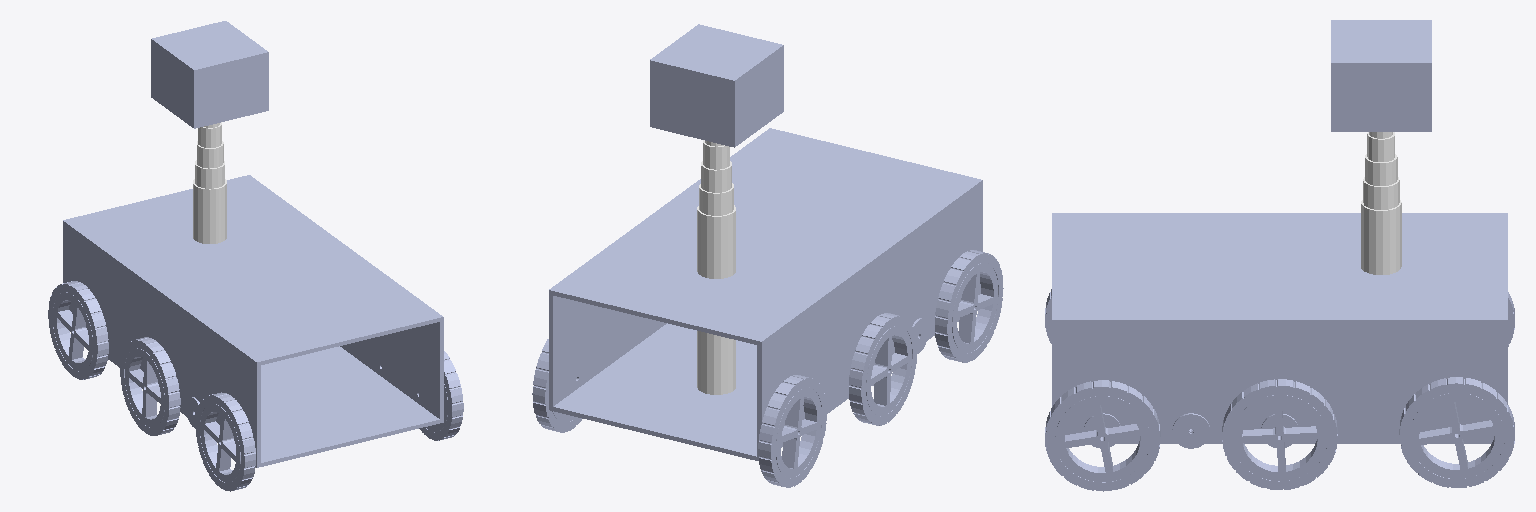
robot.urdf — argos:
<?xml version="1.0" encoding="utf-8"?>
<!-- This URDF was automatically created by SolidWorks to URDF Exporter! Originally created by [author] ([email redacted]) 
     Commit Version: 1.6.0-1-g15f4949  Build Version: 1.6.7594.29634
     For more information, please see http://wiki.ros.org/sw_urdf_exporter -->
<robot
  name="argos">
  <link
    name="base_link">
    <inertial>
      <origin
        xyz="-0.0377652748892957 -0.0209250714999895 0.103550542922571"
        rpy="0 0 0" />
      <mass
        value="13.4937168146928" />
      <inertia
        ixx="1.08636318950784"
        ixy="4.36025299634569E-16"
        ixz="2.00402111243798E-16"
        iyy="0.632818984557334"
        iyz="2.82387821223199E-05"
        izz="1.36808980383463" />
    </inertial>
    <visual>
      <origin
        xyz="0 0 0"
        rpy="0 0 0" />
      <geometry>
        <mesh
          filename="package://argos_description/meshes/base_link.STL" />
      </geometry>
      <material
        name="">
        <color
          rgba="0.792156862745098 0.819607843137255 0.933333333333333 1" />
      </material>
    </visual>
    <collision>
      <origin
        xyz="0 0 0"
        rpy="0 0 0" />
      <geometry>
        <mesh
          filename="package://argos_description/meshes/base_link.STL" />
      </geometry>
    </collision>
  </link>
  <link
    name="right_rear_motor_link">
    <inertial>
      <origin
        xyz="0 -0.0025 0"
        rpy="0 0 0" />
      <mass
        value="0.0216966242638545" />
      <inertia
        ixx="7.80852466996015E-06"
        ixy="-1.91596964344589E-22"
        ixz="-4.2351647362715E-22"
        iyy="1.55266467388209E-05"
        iyz="-4.62295371395108E-22"
        izz="7.80852466996015E-06" />
    </inertial>
    <visual>
      <origin
        xyz="0 0 0"
        rpy="0 0 0" />
      <geometry>
        <mesh
          filename="package://argos_description/meshes/right_rear_motor_link.STL" />
      </geometry>
      <material
        name="">
        <color
          rgba="0.792156862745098 0.819607843137255 0.933333333333333 1" />
      </material>
    </visual>
    <collision>
      <origin
        xyz="0 0 0"
        rpy="0 0 0" />
      <geometry>
        <mesh
          filename="package://argos_description/meshes/right_rear_motor_link.STL" />
      </geometry>
    </collision>
  </link>
  <joint
    name="right_rear_motor_joint"
    type="continuous">
    <origin
      xyz="0.21723 -0.19595 0.00082273"
      rpy="0 -0.3918 1.5708" />
    <parent
      link="base_link" />
    <child
      link="right_rear_motor_link" />
    <axis
      xyz="0 1 0" />
  </joint>
  <link
    name="right_mid_gear_link">
    <inertial>
      <origin
        xyz="-1.98408997564847E-17 0.002 -2.32452945780892E-16"
        rpy="0 0 0" />
      <mass
        value="0.0216966242638545" />
      <inertia
        ixx="7.80852466996015E-06"
        ixy="5.02080282874028E-22"
        ixz="0"
        iyy="1.55266467388209E-05"
        iyz="1.16710758237386E-35"
        izz="7.80852466996015E-06" />
    </inertial>
    <visual>
      <origin
        xyz="0 0 0"
        rpy="0 0 0" />
      <geometry>
        <mesh
          filename="package://argos_description/meshes/right_mid_gear_link.STL" />
      </geometry>
      <material
        name="">
        <color
          rgba="0.792156862745098 0.819607843137255 0.933333333333333 1" />
      </material>
    </visual>
    <collision>
      <origin
        xyz="0 0 0"
        rpy="0 0 0" />
      <geometry>
        <mesh
          filename="package://argos_description/meshes/right_mid_gear_link.STL" />
      </geometry>
    </collision>
  </link>
  <joint
    name="right_mid_gear_joint"
    type="continuous">
    <origin
      xyz="0.161739303728853 -0.0045 -0.0668236307701537"
      rpy="-3.14159265358979 1.17899991460537 -3.14159265358979" />
    <parent
      link="right_rear_motor_link" />
    <child
      link="right_mid_gear_link" />
    <axis
      xyz="0 1 0" />
  </joint>
  <link
    name="right_mid_wheel_link">
    <inertial>
      <origin
        xyz="2.25514051876985E-16 0.0155000000000001 4.03323208164608E-17"
        rpy="0 0 0" />
      <mass
        value="0.820122101622573" />
      <inertia
        ixx="0.00342027097529297"
        ixy="-6.35171020925471E-21"
        ixz="5.42101086242752E-19"
        iyy="0.00671792488217426"
        iyz="-1.81154860439012E-19"
        izz="0.00342027097529297" />
    </inertial>
    <visual>
      <origin
        xyz="0 0 0"
        rpy="0 0 0" />
      <geometry>
        <mesh
          filename="package://argos_description/meshes/right_mid_wheel_link.STL" />
      </geometry>
      <material
        name="">
        <color
          rgba="0.792156862745098 0.819607843137255 0.933333333333333 1" />
      </material>
    </visual>
    <collision>
      <origin
        xyz="0 0 0"
        rpy="0 0 0" />
      <geometry>
        <mesh
          filename="package://argos_description/meshes/right_mid_wheel_link.STL" />
      </geometry>
    </collision>
  </link>
  <joint
    name="right_mid_wheel_joint"
    type="fixed">
    <origin
      xyz="0 0 0"
      rpy="-3.14159265358979 1.51273617278771 0" />
    <parent
      link="right_mid_gear_link" />
    <child
      link="right_mid_wheel_link" />
    <axis
      xyz="0 0 0" />
  </joint>
  <link
    name="right_rear_gear_link">
    <inertial>
      <origin
        xyz="-6.98226199080665E-17 0.00749999999999987 -1.11022302462516E-16"
        rpy="0 0 0" />
      <mass
        value="0.0216966242638545" />
      <inertia
        ixx="7.80852466996015E-06"
        ixy="-5.02080282874028E-22"
        ixz="-3.74939945665465E-41"
        iyy="1.55266467388209E-05"
        iyz="-2.43906422185256E-57"
        izz="7.80852466996015E-06" />
    </inertial>
    <visual>
      <origin
        xyz="0 0 0"
        rpy="0 0 0" />
      <geometry>
        <mesh
          filename="package://argos_description/meshes/right_rear_gear_link.STL" />
      </geometry>
      <material
        name="">
        <color
          rgba="0.792156862745098 0.819607843137255 0.933333333333333 1" />
      </material>
    </visual>
    <collision>
      <origin
        xyz="0 0 0"
        rpy="0 0 0" />
      <geometry>
        <mesh
          filename="package://argos_description/meshes/right_rear_gear_link.STL" />
      </geometry>
    </collision>
  </link>
  <joint
    name="right_rear_gear_joint"
    type="continuous">
    <origin
      xyz="-0.161739303728853 -0.00500000000000006 0.0668236307701536"
      rpy="-3.14159265358979 1.17899991460539 -3.14159265358979" />
    <parent
      link="right_rear_motor_link" />
    <child
      link="right_rear_gear_link" />
    <axis
      xyz="0 1 0" />
  </joint>
  <link
    name="right_rear_wheel_link">
    <inertial>
      <origin
        xyz="-8.32667268468867E-17 0.015 5.55111512312578E-17"
        rpy="0 0 0" />
      <mass
        value="0.820122101622576" />
      <inertia
        ixx="0.00342027097529298"
        ixy="2.01461140192011E-19"
        ixz="1.13841228110978E-18"
        iyy="0.00671792488217428"
        iyz="4.21871567652041E-20"
        izz="0.00342027097529298" />
    </inertial>
    <visual>
      <origin
        xyz="0 0 0"
        rpy="0 0 0" />
      <geometry>
        <mesh
          filename="package://argos_description/meshes/right_rear_wheel_link.STL" />
      </geometry>
      <material
        name="">
        <color
          rgba="0.792156862745098 0.819607843137255 0.933333333333333 1" />
      </material>
    </visual>
    <collision>
      <origin
        xyz="0 0 0"
        rpy="0 0 0" />
      <geometry>
        <mesh
          filename="package://argos_description/meshes/right_rear_wheel_link.STL" />
      </geometry>
    </collision>
  </link>
  <joint
    name="right_rear_wheel_joint"
    type="continuous">
    <origin
      xyz="0 0 0"
      rpy="3.14159265358979 -0.17799306621387 0" />
    <parent
      link="right_rear_gear_link" />
    <child
      link="right_rear_wheel_link" />
    <axis
      xyz="0 1 0" />
  </joint>
  <link
    name="right_front_wheel_link">
    <inertial>
      <origin
        xyz="0 0.015 -6.93889390390723E-18"
        rpy="0 0 0" />
      <mass
        value="0.820122101622575" />
      <inertia
        ixx="0.00342027097529298"
        ixy="6.74204766962017E-20"
        ixz="-3.25260651745651E-19"
        iyy="0.00671792488217427"
        iyz="-2.84377181797463E-19"
        izz="0.00342027097529298" />
    </inertial>
    <visual>
      <origin
        xyz="0 0 0"
        rpy="0 0 0" />
      <geometry>
        <mesh
          filename="package://argos_description/meshes/right_front_wheel_link.STL" />
      </geometry>
      <material
        name="">
        <color
          rgba="0.792156862745098 0.819607843137255 0.933333333333333 1" />
      </material>
    </visual>
    <collision>
      <origin
        xyz="0 0 0"
        rpy="0 0 0" />
      <geometry>
        <mesh
          filename="package://argos_description/meshes/right_front_wheel_link.STL" />
      </geometry>
    </collision>
  </link>
  <joint
    name="right_front_wheel_joint"
    type="continuous">
    <origin
      xyz="0.21223 0.32905 0.00082273"
      rpy="0 0.1857 -1.5708" />
    <parent
      link="base_link" />
    <child
      link="right_front_wheel_link" />
    <axis
      xyz="0 1 0" />
  </joint>
  <link
    name="left_front_wheel_link">
    <inertial>
      <origin
        xyz="-5.55111512312578E-17 0.015 2.08166817117217E-17"
        rpy="0 0 0" />
      <mass
        value="0.820122101622576" />
      <inertia
        ixx="0.00342027097529298"
        ixy="2.48187406627788E-20"
        ixz="7.04731412115578E-19"
        iyy="0.00671792488217428"
        iyz="2.81064112758757E-19"
        izz="0.00342027097529298" />
    </inertial>
    <visual>
      <origin
        xyz="0 0 0"
        rpy="0 0 0" />
      <geometry>
        <mesh
          filename="package://argos_description/meshes/left_front_wheel_link.STL" />
      </geometry>
      <material
        name="">
        <color
          rgba="0.792156862745098 0.819607843137255 0.933333333333333 1" />
      </material>
    </visual>
    <collision>
      <origin
        xyz="0 0 0"
        rpy="0 0 0" />
      <geometry>
        <mesh
          filename="package://argos_description/meshes/left_front_wheel_link.STL" />
      </geometry>
    </collision>
  </link>
  <joint
    name="left_front_wheel_joint"
    type="continuous">
    <origin
      xyz="-0.28777 0.32905 0.00082273"
      rpy="3.1416 0.1857 -1.5708" />
    <parent
      link="base_link" />
    <child
      link="left_front_wheel_link" />
    <axis
      xyz="0 1 0" />
  </joint>
  <link
    name="left_rear_motor_link">
    <inertial>
      <origin
        xyz="-1.38777878078145E-16 -0.0025 -4.16333634234434E-17"
        rpy="0 0 0" />
      <mass
        value="0.0216966242638545" />
      <inertia
        ixx="7.80852466996016E-06"
        ixy="-1.59887894548014E-22"
        ixz="-2.11758236813575E-22"
        iyy="1.55266467388209E-05"
        iyz="3.88435361031883E-22"
        izz="7.80852466996015E-06" />
    </inertial>
    <visual>
      <origin
        xyz="0 0 0"
        rpy="0 0 0" />
      <geometry>
        <mesh
          filename="package://argos_description/meshes/left_rear_motor_link.STL" />
      </geometry>
      <material
        name="">
        <color
          rgba="0.792156862745098 0.819607843137255 0.933333333333333 1" />
      </material>
    </visual>
    <collision>
      <origin
        xyz="0 0 0"
        rpy="0 0 0" />
      <geometry>
        <mesh
          filename="package://argos_description/meshes/left_rear_motor_link.STL" />
      </geometry>
    </collision>
  </link>
  <joint
    name="left_rear_motor_joint"
    type="continuous">
    <origin
      xyz="-0.29277 -0.19595 0.00082273"
      rpy="3.1416 -0.3918 1.5708" />
    <parent
      link="base_link" />
    <child
      link="left_rear_motor_link" />
    <axis
      xyz="0 1 0" />
  </joint>
  <link
    name="left_rear_gear_link">
    <inertial>
      <origin
        xyz="2.16840434497101E-19 0.00249999999999995 5.55111512312578E-17"
        rpy="0 0 0" />
      <mass
        value="0.0216966242638545" />
      <inertia
        ixx="7.80852466996015E-06"
        ixy="5.02080282874028E-22"
        ixz="-3.74939945665465E-41"
        iyy="1.55266467388209E-05"
        iyz="2.43906422185256E-57"
        izz="7.80852466996015E-06" />
    </inertial>
    <visual>
      <origin
        xyz="0 0 0"
        rpy="0 0 0" />
      <geometry>
        <mesh
          filename="package://argos_description/meshes/left_rear_gear_link.STL" />
      </geometry>
      <material
        name="">
        <color
          rgba="0.792156862745098 0.819607843137255 0.933333333333333 1" />
      </material>
    </visual>
    <collision>
      <origin
        xyz="0 0 0"
        rpy="0 0 0" />
      <geometry>
        <mesh
          filename="package://argos_description/meshes/left_rear_gear_link.STL" />
      </geometry>
    </collision>
  </link>
  <joint
    name="left_rear_gear_joint"
    type="continuous">
    <origin
      xyz="-0.16174 0 -0.066824"
      rpy="-3.1416 -1.179 3.1416" />
    <parent
      link="left_rear_motor_link" />
    <child
      link="left_rear_gear_link" />
    <axis
      xyz="0 1 0" />
  </joint>
  <link
    name="left_rear_wheel_link">
    <inertial>
      <origin
        xyz="2.7756E-17 0.02 5.5511E-17"
        rpy="0 0 0" />
      <mass
        value="0.82012" />
      <inertia
        ixx="0.0034203"
        ixy="-2.7921E-19"
        ixz="5.421E-20"
        iyy="0.0067179"
        iyz="5.5543E-20"
        izz="0.0034203" />
    </inertial>
    <visual>
      <origin
        xyz="0 0 0"
        rpy="0 0 0" />
      <geometry>
        <mesh
          filename="package://argos_description/meshes/left_rear_wheel_link.STL" />
      </geometry>
      <material
        name="">
        <color
          rgba="0.79216 0.81961 0.93333 1" />
      </material>
    </visual>
    <collision>
      <origin
        xyz="0 0 0"
        rpy="0 0 0" />
      <geometry>
        <mesh
          filename="package://argos_description/meshes/left_rear_wheel_link.STL" />
      </geometry>
    </collision>
  </link>
  <joint
    name="left_rear_wheel_joint"
    type="continuous">
    <origin
      xyz="0 0 0"
      rpy="3.1416 0.17799 0" />
    <parent
      link="left_rear_gear_link" />
    <child
      link="left_rear_wheel_link" />
    <axis
      xyz="0 1 0" />
  </joint>
  <link
    name="left_mid_gear_link">
    <inertial>
      <origin
        xyz="-1.57209315010398E-17 0.002 1.87350135405495E-16"
        rpy="0 0 0" />
      <mass
        value="0.0216966242638545" />
      <inertia
        ixx="7.80852466996015E-06"
        ixy="1.58992089576735E-20"
        ixz="-3.37037740267766E-34"
        iyy="1.55266467388209E-05"
        iyz="-1.76732259571658E-19"
        izz="7.80852466996015E-06" />
    </inertial>
    <visual>
      <origin
        xyz="0 0 0"
        rpy="0 0 0" />
      <geometry>
        <mesh
          filename="package://argos_description/meshes/left_mid_gear_link.STL" />
      </geometry>
      <material
        name="">
        <color
          rgba="0.792156862745098 0.819607843137255 0.933333333333333 1" />
      </material>
    </visual>
    <collision>
      <origin
        xyz="0 0 0"
        rpy="0 0 0" />
      <geometry>
        <mesh
          filename="package://argos_description/meshes/left_mid_gear_link.STL" />
      </geometry>
    </collision>
  </link>
  <joint
    name="left_mid_gear_joint"
    type="continuous">
    <origin
      xyz="0.16174 -0.0045 0.066824"
      rpy="-3.1416 -1.179 3.1416" />
    <parent
      link="left_rear_motor_link" />
    <child
      link="left_mid_gear_link" />
    <axis
      xyz="0 1 0" />
  </joint>
  <link
    name="left_mid_wheel_link">
    <inertial>
      <origin
        xyz="2.15105711021124E-16 0.0154999999999999 -2.90566182226115E-17"
        rpy="0 0 0" />
      <mass
        value="0.820122101622574" />
      <inertia
        ixx="0.00342027097529297"
        ixy="5.33859423250119E-20"
        ixz="1.35525271560688E-19"
        iyy="0.00671792488217427"
        iyz="2.05696505401071E-19"
        izz="0.00342027097529297" />
    </inertial>
    <visual>
      <origin
        xyz="0 0 0"
        rpy="0 0 0" />
      <geometry>
        <mesh
          filename="package://argos_description/meshes/left_mid_wheel_link.STL" />
      </geometry>
      <material
        name="">
        <color
          rgba="0.792156862745098 0.819607843137255 0.933333333333333 1" />
      </material>
    </visual>
    <collision>
      <origin
        xyz="0 0 0"
        rpy="0 0 0" />
      <geometry>
        <mesh
          filename="package://argos_description/meshes/left_mid_wheel_link.STL" />
      </geometry>
    </collision>
  </link>
  <joint
    name="left_mid_wheel_joint"
    type="continuous">
    <origin
      xyz="0 0 0"
      rpy="3.1415926535894 -1.51273617278772 0" />
    <parent
      link="left_mid_gear_link" />
    <child
      link="left_mid_wheel_link" />
    <axis
      xyz="0 1 0" />
  </joint>
  <link
    name="mast_link">
    <inertial>
      <origin
        xyz="0 0 0"
        rpy="0 0 0" />
      <mass
        value="0" />
      <inertia
        ixx="0"
        ixy="0"
        ixz="0"
        iyy="0"
        iyz="0"
        izz="0" />
    </inertial>
    <visual>
      <origin
        xyz="0 0 0"
        rpy="0 0 0" />
      <geometry>
        <mesh
          filename="package://argos_description/meshes/mast_link.STL" />
      </geometry>
      <material
        name="">
        <color
          rgba="1 1 1 1" />
      </material>
    </visual>
    <collision>
      <origin
        xyz="0 0 0"
        rpy="0 0 0" />
      <geometry>
        <mesh
          filename="package://argos_description/meshes/mast_link.STL" />
      </geometry>
    </collision>
  </link>
  <joint
    name="mast_joint"
    type="fixed">
    <origin
      xyz="-0.037765 0.17905 -0.021497"
      rpy="1.5708 0 0" />
    <parent
      link="base_link" />
    <child
      link="mast_link" />
    <axis
      xyz="0 0 0" />
  </joint>
  <link
    name="camera_link">
    <inertial>
      <origin
        xyz="0 0.075 2.77555756156289E-17"
        rpy="0 0 0" />
      <mass
        value="6" />
      <inertia
        ixx="0.03125"
        ixy="-7.22801448323669E-19"
        ixz="-1.09865820145197E-19"
        iyy="0.04"
        iyz="-5.42101086242748E-19"
        izz="0.03125" />
    </inertial>
    <visual>
      <origin
        xyz="0 0 0"
        rpy="0 0 0" />
      <geometry>
        <mesh
          filename="package://argos_description/meshes/camera_link.STL" />
      </geometry>
      <material
        name="">
        <color
          rgba="0.792156862745098 0.819607843137255 0.933333333333333 1" />
      </material>
    </visual>
    <collision>
      <origin
        xyz="0 0 0"
        rpy="0 0 0" />
      <geometry>
        <mesh
          filename="package://argos_description/meshes/camera_link.STL" />
      </geometry>
    </collision>
  </link>
  <joint
    name="camera_joint"
    type="fixed">
    <origin
      xyz="0 0.6 0"
      rpy="0 0 0" />
    <parent
      link="mast_link" />
    <child
      link="camera_link" />
    <axis
      xyz="0 0 0" />
  </joint>
</robot>

--- What the picture shows (computed from the rendered views, not written in the file) ---
3 views of the same robot in one strip: view 1: azimuth 30°, elevation 25°; view 2: azimuth 150°, elevation 25°; view 3: azimuth 270°, elevation 25° (orthographic).
Robot: argos — 15 links, 14 joints (11 continuous, 3 fixed); root link base_link; default pose: all joints at 0.
Visible links, largest first — view 1: base_link, camera_link, left_mid_wheel_link, left_front_wheel_link, left_rear_wheel_link, mast_link, right_rear_wheel_link; view 2: base_link, camera_link, mast_link, left_front_wheel_link, left_rear_wheel_link, left_mid_wheel_link, right_front_wheel_link; view 3: base_link, camera_link, right_rear_wheel_link, right_front_wheel_link, right_mid_wheel_link, mast_link, right_rear_motor_link.
Boxes of the visible links, x1,y1,x2,y2 form: base_link: (63, 175, 443, 467); camera_link: (151, 21, 268, 128); left_mid_wheel_link: (120, 337, 180, 435); left_front_wheel_link: (48, 281, 108, 379); left_rear_wheel_link: (196, 392, 255, 491); mast_link: (193, 122, 226, 243); right_rear_wheel_link: (419, 351, 463, 440); base_link: (549, 128, 982, 460); camera_link: (650, 24, 783, 147); mast_link: (697, 140, 735, 394); left_front_wheel_link: (758, 375, 826, 487); left_rear_wheel_link: (935, 250, 1003, 362); left_mid_wheel_link: (849, 313, 916, 425); right_front_wheel_link: (532, 339, 581, 432); base_link: (1052, 213, 1507, 443); camera_link: (1331, 20, 1431, 131); right_rear_wheel_link: (1045, 380, 1160, 491); right_front_wheel_link: (1399, 377, 1514, 487); right_mid_wheel_link: (1222, 379, 1337, 489); mast_link: (1361, 132, 1401, 274); right_rear_motor_link: (1172, 413, 1209, 448).
Bounding box of the posed robot: 0.585 × 0.9285 × 0.842 m (x, y, z).
15 mesh visuals loaded from 15 distinct referenced files (15 binary STL).